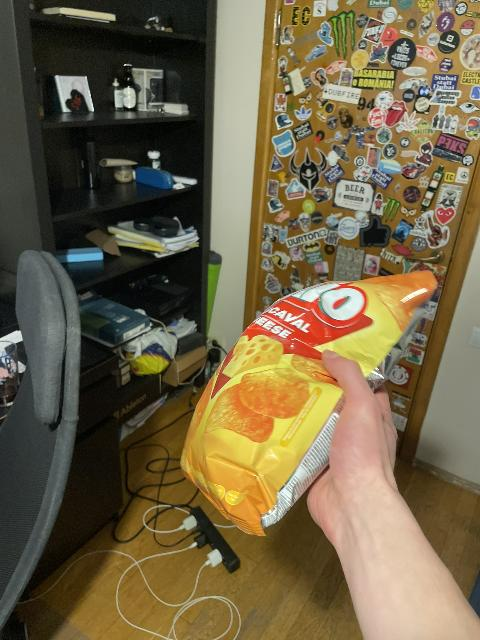Chio Cascaval 125g: (179, 270, 438, 538)
